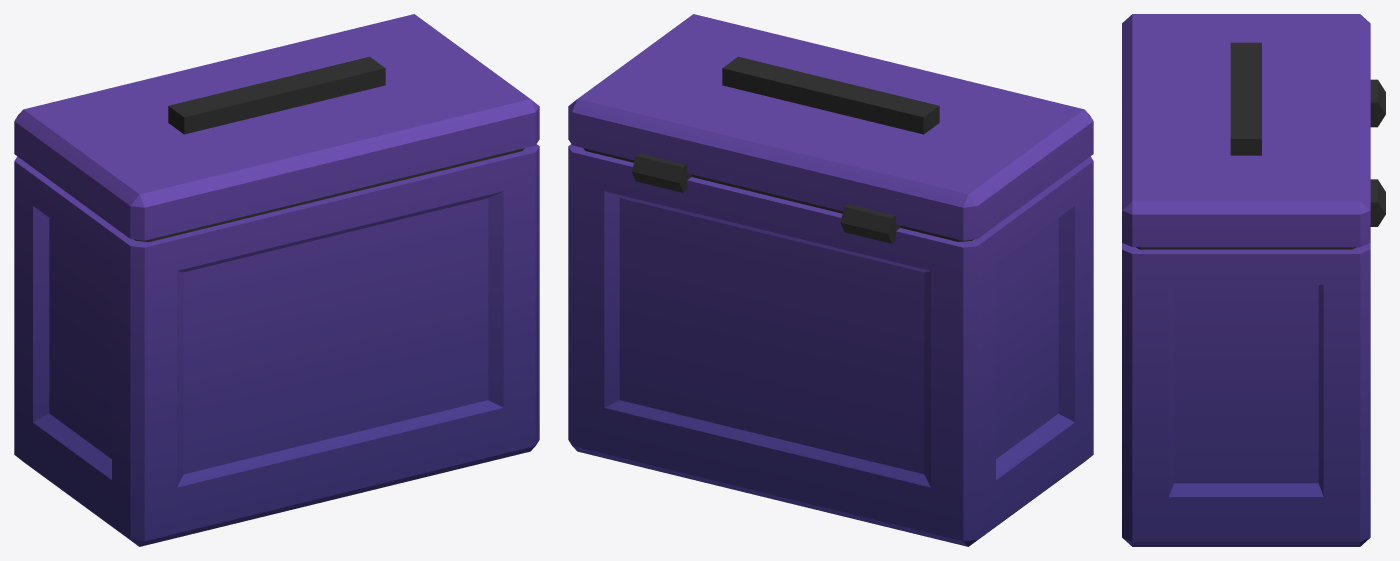
The model's file is AmoBox_08.fbx.
3 views of the same model, side by side, from view 1: azimuth 30°, elevation 25°; view 2: azimuth 150°, elevation 25°; view 3: azimuth 270°, elevation 25° (orthographic).
Parts seen in each view (by area): view 1: AmoBox_08; view 2: AmoBox_08; view 3: AmoBox_08.
Part boxes in pixels (x1=…): AmoBox_08: x1=14, y1=14, x2=539, y2=546; AmoBox_08: x1=568, y1=14, x2=1093, y2=546; AmoBox_08: x1=1122, y1=14, x2=1385, y2=546.
Size of the model in its own units: 0.3506 by 0.3027 by 0.1995.
